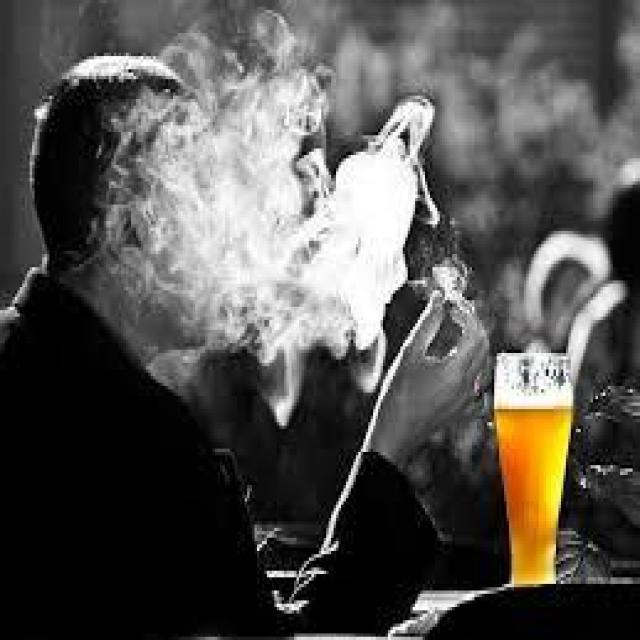Smoke: (120, 26, 434, 413)
